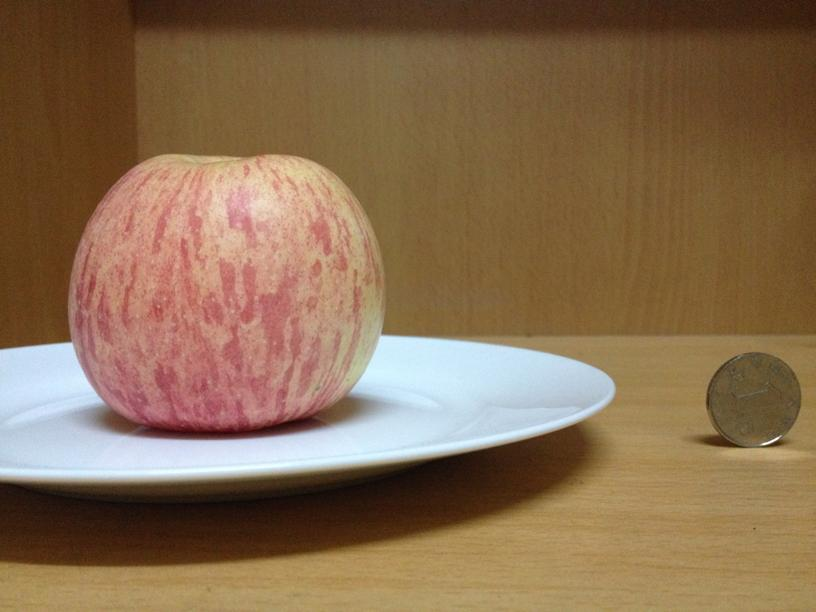apple: (61, 149, 386, 433)
coin: (705, 348, 800, 449)
